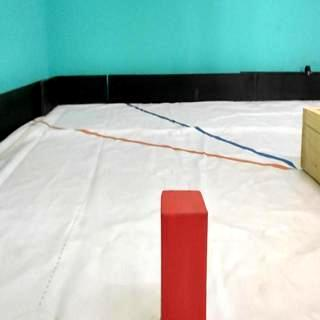redbox: (160, 190, 208, 320)
